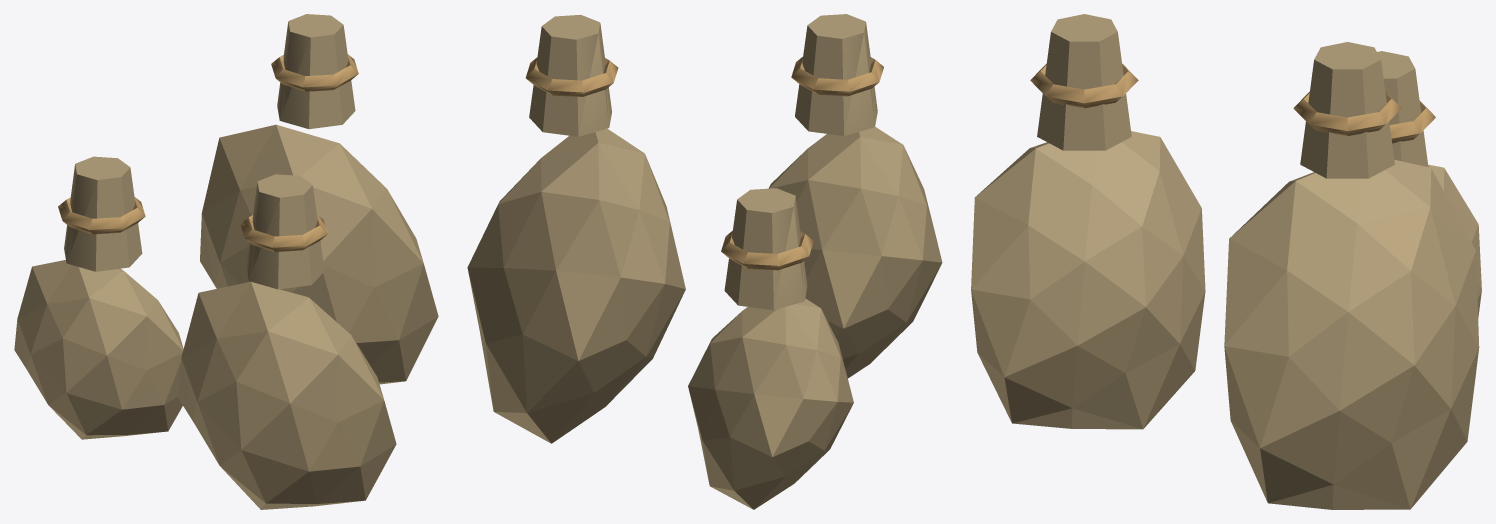
File: 30_grain_sacks.fbx
The picture shows the model from 3 angles, left to right: view 1: azimuth 30°, elevation 25°; view 2: azimuth 150°, elevation 25°; view 3: azimuth 270°, elevation 25°; orthographic projection. The views are drawn at different scales.
Parts seen in each view (by area): view 1: 30_grain_sacks; view 2: 30_grain_sacks; view 3: 30_grain_sacks.
Part boxes in pixels (x1,y1,x2,y2): 30_grain_sacks: (14,14,438,509); 30_grain_sacks: (467,14,942,509); 30_grain_sacks: (971,14,1481,509).
Bounding box in the file's own units: 0.8562 × 0.8831 × 0.8931.
Materials: 1 (1 with a texture image).
